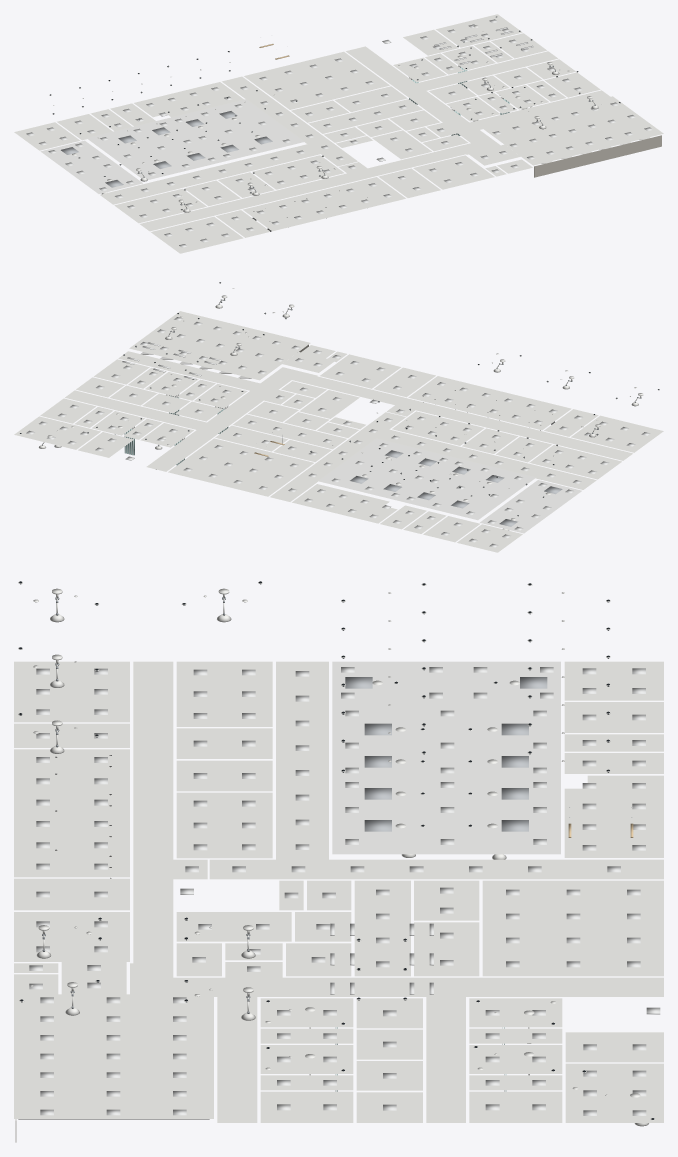
File: 15_n1_plafones.glb
The picture shows the model from 3 angles, top to bottom: view 1: azimuth 30°, elevation 25°; view 2: azimuth 150°, elevation 25°; view 3: azimuth 270°, elevation 25°; orthographic projection. The views are drawn at different scales.
Parts seen in each view (by area): view 1: Plafón de pasillos N1, plafón · Macro quirófano · 8 mesas · h libre 3.60 m, plafón · Sala de usos múltiples · 80-100 asistentes · h libr, plafón · Sala de microcirugía · 16 estaciones, plafón · Sala de café, plafón · Sala de cirugía robótica, plafón · Bodega de material quirúrgico e insumos, plafón · Sala de máquinas y gases medicinales, bafles acústicos y persiana, plafón · Vestidor de quirófano · hombres · lockers, plafón · Vestidor de quirófano · mujeres · lockers, plafón · Lobby, recepción y vigilancia (+28 smaller); view 2: Plafón de pasillos N1, plafón · Macro quirófano · 8 mesas · h libre 3.60 m, plafón · Sala de usos múltiples · 80-100 asistentes · h libr, plafón · Sala de microcirugía · 16 estaciones, plafón · Sala de café, plafón · Sala de cirugía robótica, plafón · Bodega de material quirúrgico e insumos, plafón · Sala de máquinas y gases medicinales, plafón · Vestidor de quirófano · mujeres · lockers, plafón · Vestidor de quirófano · hombres · lockers, plafón · Lobby, recepción y vigilancia, plafón · Atención al politraumatizado y recepción de ambulan (+27 smaller); view 3: Plafón de pasillos N1, plafón · Macro quirófano · 8 mesas · h libre 3.60 m, plafón · Sala de usos múltiples · 80-100 asistentes · h libr, plafón · Sala de microcirugía · 16 estaciones, plafón · Sala de café, plafón · Sala de cirugía robótica, plafón · Bodega de material quirúrgico e insumos, plafón · Sala de máquinas y gases medicinales, plafón · Vestidor de quirófano · mujeres · lockers, plafón · Vestidor de quirófano · hombres · lockers, plafón · Atención al politraumatizado y recepción de ambulan, plafón · Lobby, recepción y vigilancia (+34 smaller).
Boxes of the visible parts, box(x1,y1,x2,y2) form: Plafón de pasillos N1: box(100, 46, 610, 231); plafón · Macro quirófano · 8 mesas · h libre 3.60 m: box(86, 99, 304, 179); plafón · Sala de usos múltiples · 80-100 asistentes · h libr: box(482, 96, 663, 165); plafón · Sala de microcirugía · 16 estaciones: box(244, 51, 389, 109); plafón · Sala de café: box(243, 177, 405, 231); plafón · Sala de cirugía robótica: box(40, 140, 142, 193); plafón · Bodega de material quirúrgico e insumos: box(134, 82, 243, 117); plafón · Sala de máquinas y gases medicinales: box(151, 216, 243, 253); bafles acústicos y persiana: box(534, 135, 661, 177); plafón · Vestidor de quirófano · hombres · lockers: box(114, 188, 206, 223); plafón · Vestidor de quirófano · mujeres · lockers: box(252, 155, 344, 189); plafón · Lobby, recepción y vigilancia: box(413, 155, 494, 189); Plafón de pasillos N1: box(65, 351, 632, 501); plafón · Macro quirófano · 8 mesas · h libre 3.60 m: box(318, 438, 536, 520); plafón · Sala de usos múltiples · 80-100 asistentes · h libr: box(129, 311, 310, 380); plafón · Sala de microcirugía · 16 estaciones: box(168, 438, 313, 496); plafón · Sala de café: box(408, 376, 571, 430); plafón · Sala de cirugía robótica: box(480, 480, 581, 533); plafón · Bodega de material quirúrgico e insumos: box(292, 484, 397, 523); plafón · Sala de máquinas y gases medicinales: box(571, 415, 663, 452); plafón · Vestidor de quirófano · mujeres · lockers: box(392, 411, 484, 445); plafón · Vestidor de quirófano · hombres · lockers: box(529, 445, 621, 479); plafón · Lobby, recepción y vigilancia: box(320, 354, 400, 388); plafón · Atención al politraumatizado y recepción de ambulan: box(14, 416, 100, 449); Plafón de pasillos N1: box(130, 661, 663, 1122); plafón · Macro quirófano · 8 mesas · h libre 3.60 m: box(332, 701, 560, 854); plafón · Sala de usos múltiples · 80-100 asistentes · h libr: box(14, 994, 213, 1118); plafón · Sala de microcirugía · 16 estaciones: box(482, 880, 663, 976); plafón · Sala de café: box(14, 749, 129, 877); plafón · Sala de cirugía robótica: box(332, 661, 560, 701); plafón · Bodega de material quirúrgico e insumos: box(564, 775, 663, 857); plafón · Sala de máquinas y gases medicinales: box(14, 661, 129, 722); plafón · Vestidor de quirófano · mujeres · lockers: box(176, 792, 272, 858); plafón · Vestidor de quirófano · hombres · lockers: box(176, 661, 272, 726); plafón · Atención al politraumatizado y recepción de ambulan: box(565, 1063, 663, 1122); plafón · Lobby, recepción y vigilancia: box(14, 912, 129, 961).
Size of the model in its own units: 49.4 by 7.16 by 29.4.
23 materials, 3 textured.
